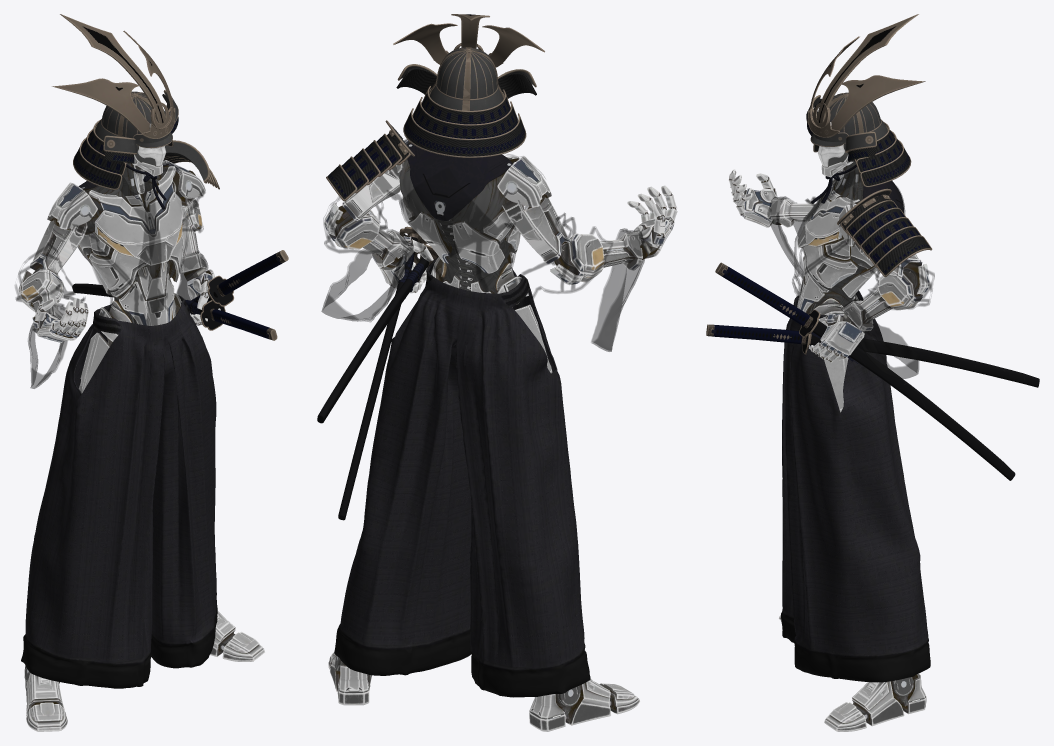
Rendered from samurai.glb.
The picture shows the model from 3 angles, left to right: view 1: azimuth 30°, elevation 25°; view 2: azimuth 150°, elevation 25°; view 3: azimuth 270°, elevation 25°; orthographic projection. The views are drawn at different scales.
Visible parts, largest first — view 1: Object_2, Object_9, Object_17, Object_5, Object_3; view 2: Object_2, Object_17, Object_9, Object_3, Object_5; view 3: Object_2, Object_17, Object_9, Object_5, Object_3.
Boxes of the visible parts, box(x1,y1,x2,y2) form: Object_2: box(21, 295, 217, 688); Object_9: box(18, 160, 264, 731); Object_17: box(52, 14, 288, 340); Object_5: box(55, 144, 195, 345); Object_3: box(15, 167, 208, 388); Object_2: box(334, 257, 590, 697); Object_17: box(317, 14, 544, 520); Object_9: box(324, 139, 677, 731); Object_3: box(321, 154, 646, 351); Object_5: box(399, 143, 528, 307); Object_2: box(781, 290, 930, 682); Object_17: box(706, 14, 1039, 480); Object_9: box(728, 169, 930, 731); Object_5: box(797, 143, 903, 315); Object_3: box(767, 170, 934, 378).
Size of the model in its own units: 1.04 by 2.43 by 1.15.
5 materials, 5 textured.
